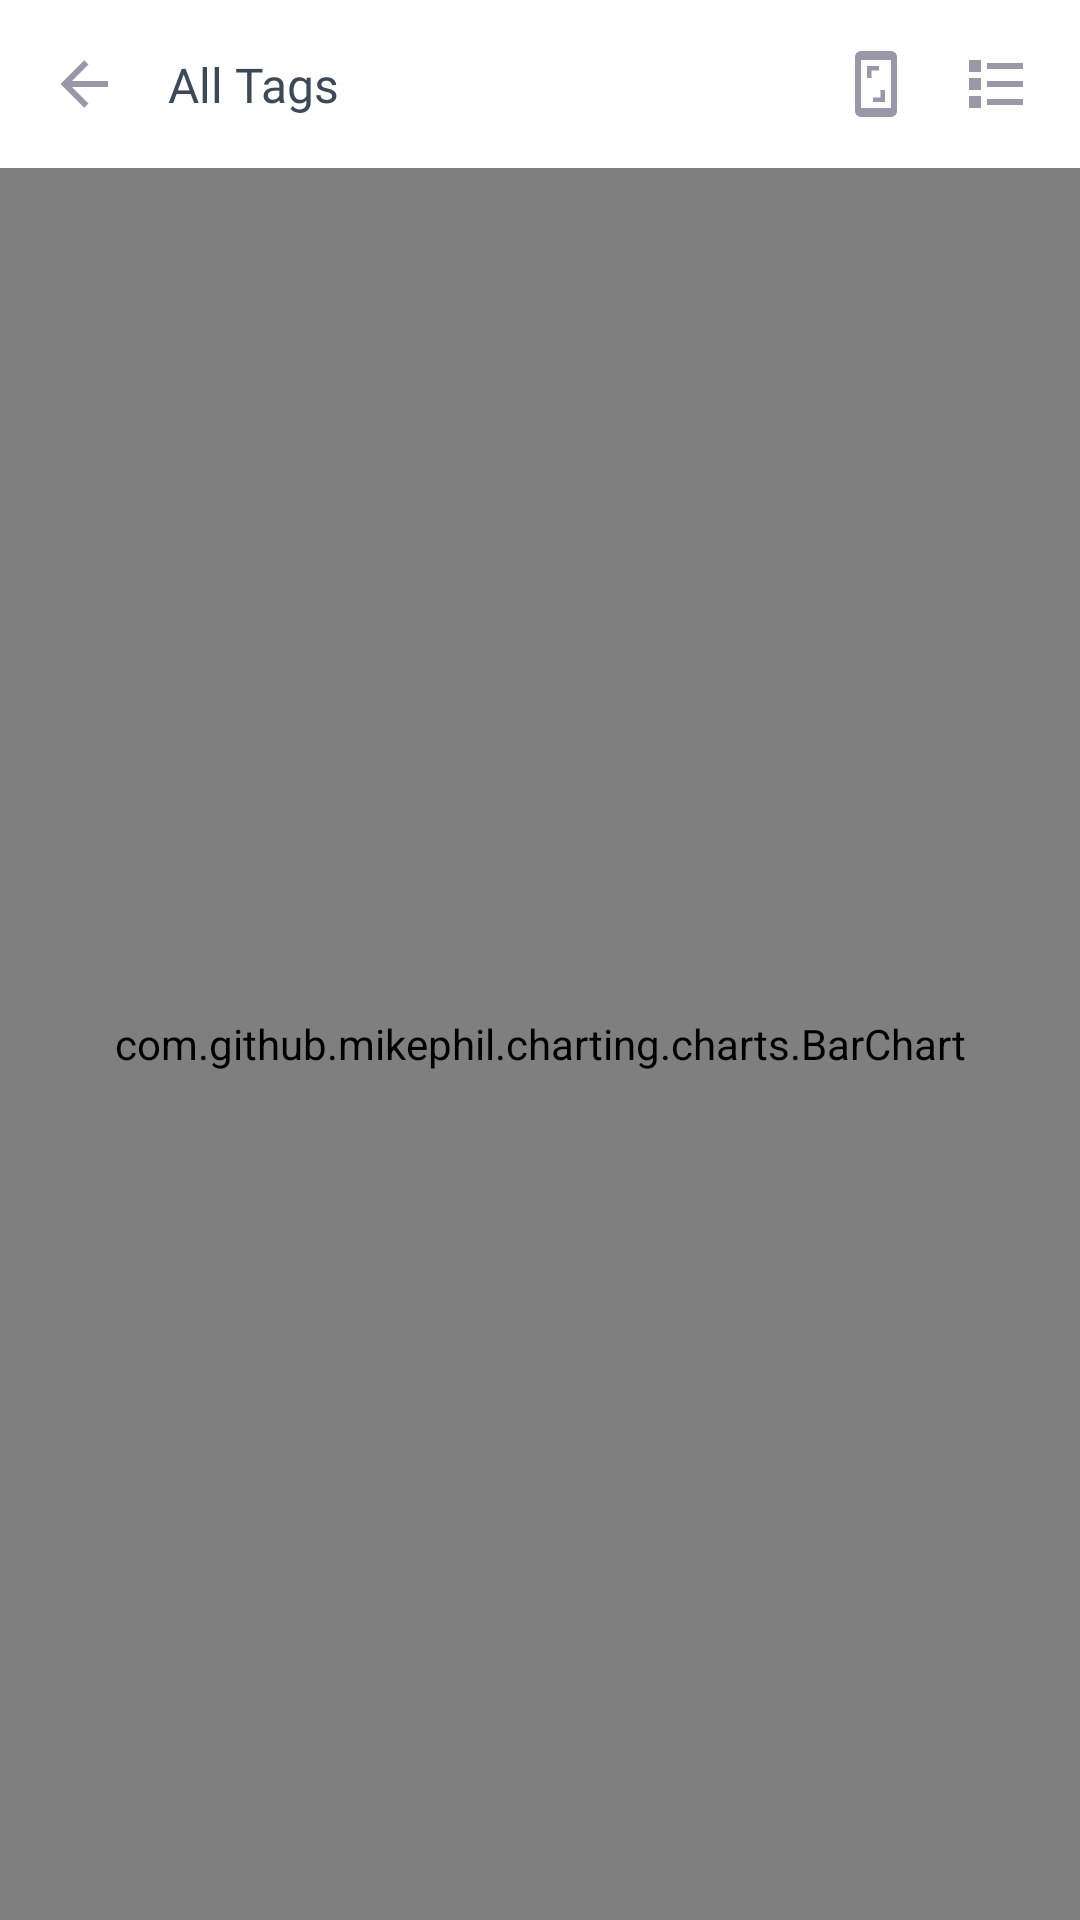

Icon bounding boxes for this 1080 × 1920 phone screenshot, format (x1, y1, x2, y2):
back: (61, 60, 108, 108)
list: (969, 60, 1023, 108)
